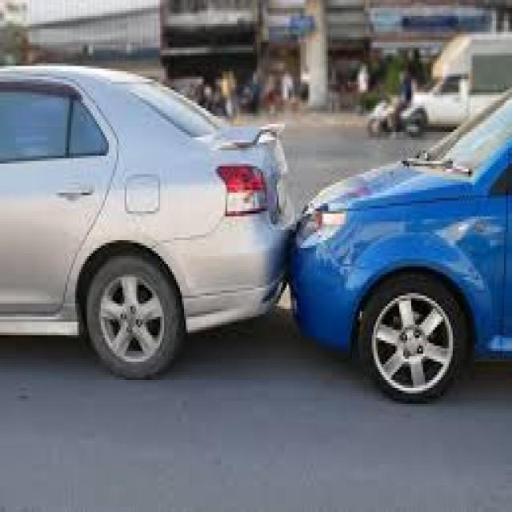小汽车撞小汽车: (4, 62, 512, 406)
